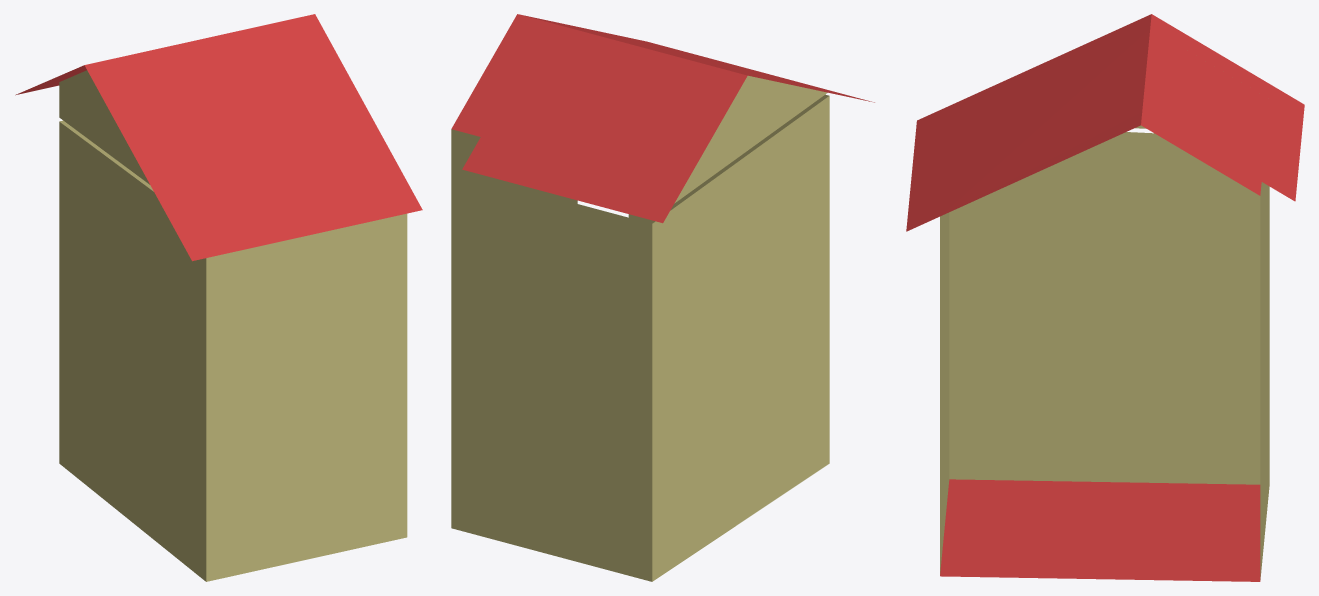
3 renders of one model, left to right at view 1: azimuth 30°, elevation 25°; view 2: azimuth 150°, elevation 25°; view 3: azimuth 270°, elevation 25°, orthographic. The views are drawn at different scales.
Bounding box in the file's own units: 6.18 × 8.86 × 11.15.
